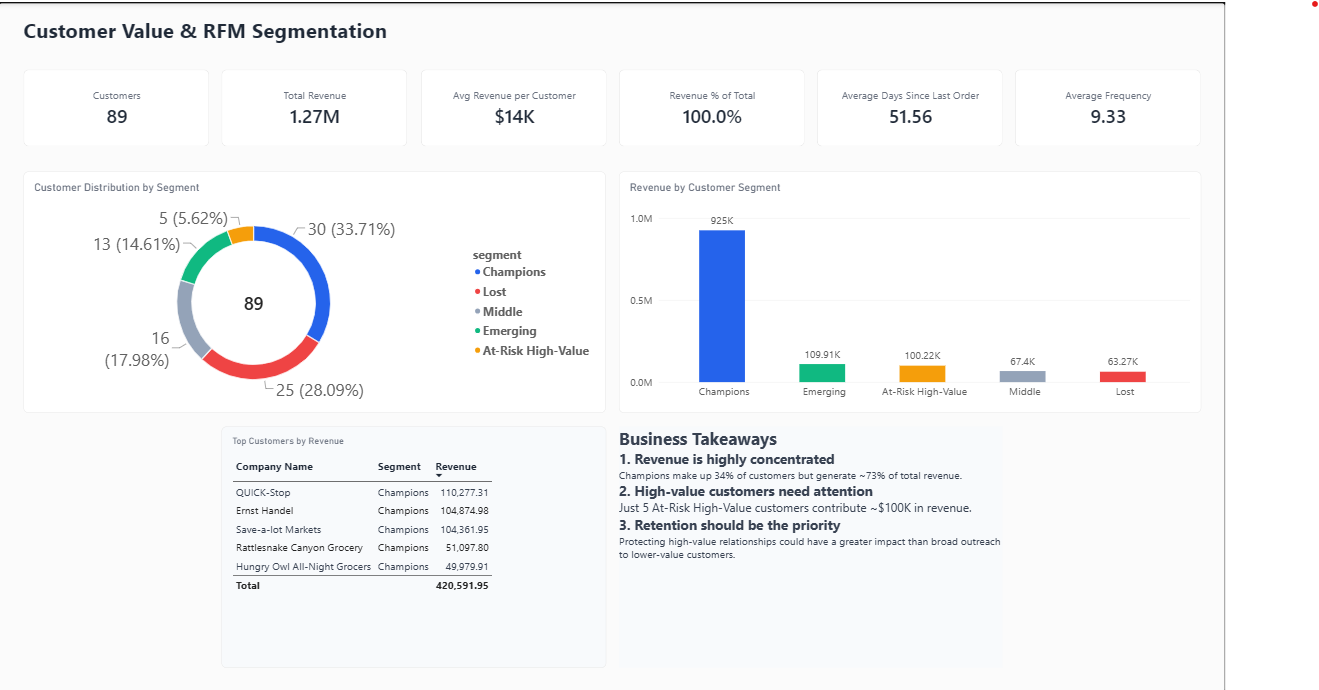

The dashboard page shown, as its layout file describes it:
{"tool":"powerbi","page":{"name":"Page 1","canvas":[1920,1080],"ordinal":0},"visuals":[{"type":"donutChart","title":"Customer Distribution by Segment","fields":{"Category":["public rfm_analysis.segment"],"Y":["CountNonNull(public rfm_analysis.segment)"]},"box":[40,265,910,377.5],"z":0},{"type":"cardVisual","fields":{"Data":["public rfm_analysis.Total Revenue1"]},"box":[350,105,290,120],"z":2},{"type":"cardVisual","fields":{"Data":["public rfm_analysis.Customers"]},"box":[40,105,290,120],"z":3},{"type":"cardVisual","fields":{"Data":["public rfm_analysis.Avg Revenue per Customer"]},"box":[660,105,290,120],"z":4},{"type":"cardVisual","fields":{"Data":["public rfm_analysis.Revenue % of Total"]},"box":[970,105,290,120],"z":6},{"type":"columnChart","title":"Revenue by Customer Segment","fields":{"Category":["public rfm_analysis.segment"],"Y":["public rfm_analysis.Total Revenue"]},"box":[970,265,910,377.5],"z":7},{"type":"cardVisual","fields":{"Data":["public rfm_analysis.Median Days Since Last Order"]},"box":[1280,105,290,120],"z":8},{"type":"cardVisual","fields":{"Data":["public rfm_analysis.Average Order Duration"]},"box":[1590,105,290,120],"z":9},{"type":"tableEx","title":"Top Customers by Revenue","fields":{"Values":["public rfm_analysis.company_name","public rfm_analysis.segment","public rfm_analysis.Total Revenue"]},"box":[349.6,663.2,601.3,377.5],"z":10},{"type":"textbox","box":[40,20,600,65],"z":11},{"type":"textbox","box":[970.8,663.2,599.3,377.5],"z":12}]}

Visuals, with their boxes on the page's 1920x1080 design canvas (x1, y1, x2, y2). These are canvas units, not pixel positions in the 1319x690 screenshot, which may show the page scaled, cropped or inside an application window:
"Customer Distribution by Segment" donutChart: x1=40 y1=265 x2=950 y2=642
cardVisual - public rfm_analysis.Total Revenue1: x1=350 y1=105 x2=640 y2=225
cardVisual - public rfm_analysis.Customers: x1=40 y1=105 x2=330 y2=225
cardVisual - public rfm_analysis.Avg Revenue per Customer: x1=660 y1=105 x2=950 y2=225
cardVisual - public rfm_analysis.Revenue % of Total: x1=970 y1=105 x2=1260 y2=225
"Revenue by Customer Segment" columnChart: x1=970 y1=265 x2=1880 y2=642
cardVisual - public rfm_analysis.Median Days Since Last Order: x1=1280 y1=105 x2=1570 y2=225
cardVisual - public rfm_analysis.Average Order Duration: x1=1590 y1=105 x2=1880 y2=225
"Top Customers by Revenue" tableEx: x1=350 y1=663 x2=951 y2=1041
textbox: x1=40 y1=20 x2=640 y2=85
textbox: x1=971 y1=663 x2=1570 y2=1041
